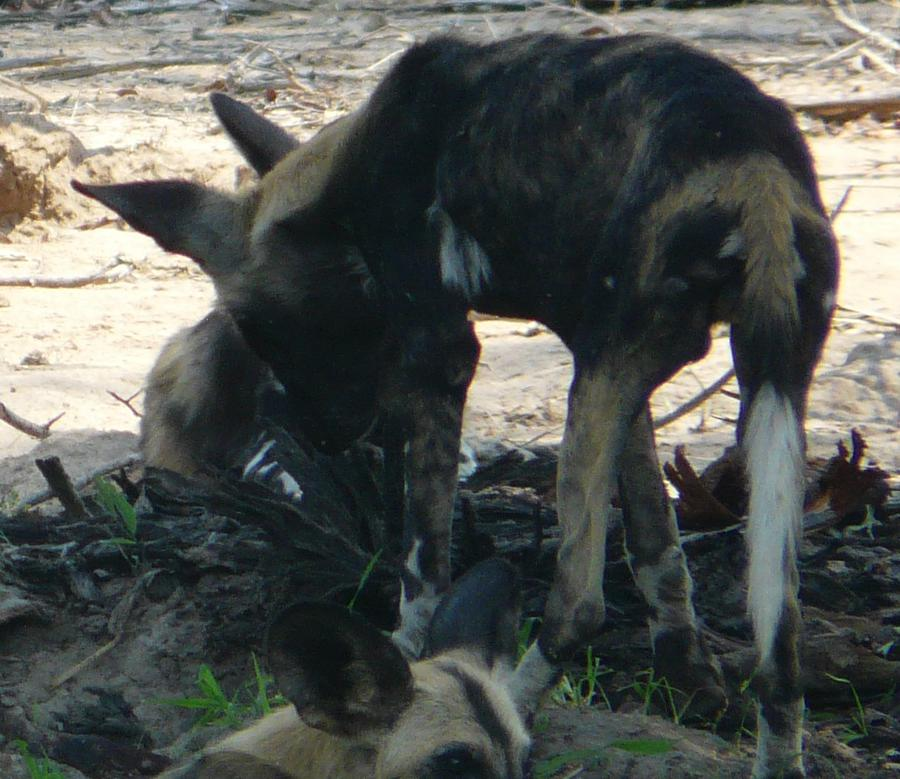wilddog: (1, 1, 900, 779)
